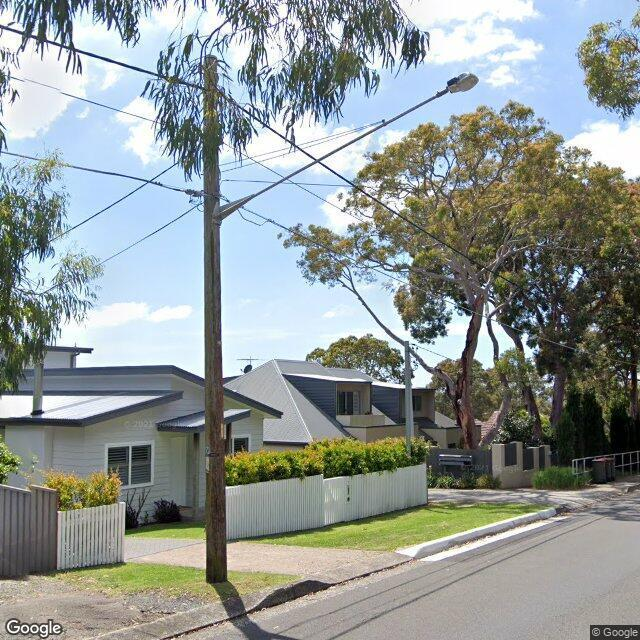steel-pole: (404, 340, 411, 454)
streetlight: (218, 72, 478, 225)
timber-pole: (202, 55, 228, 586)
